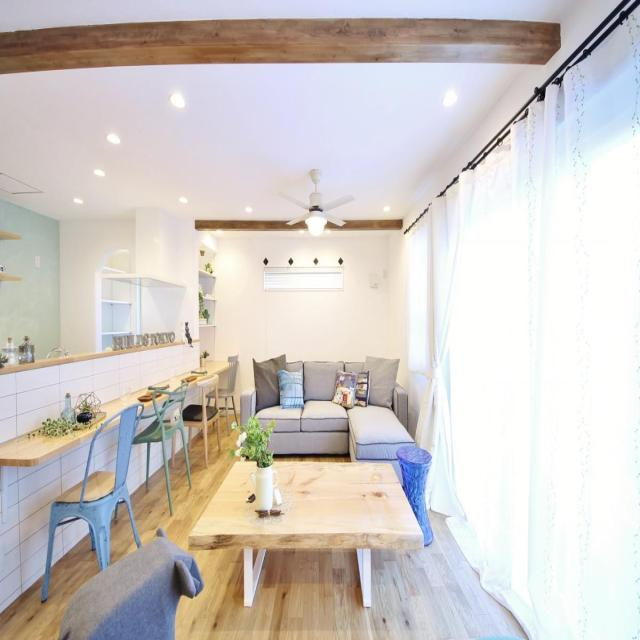natural chair: (39, 401, 145, 560), (139, 372, 193, 514), (217, 356, 240, 433)
natural desk: (197, 456, 427, 621)
natural sofa: (245, 346, 410, 466)
